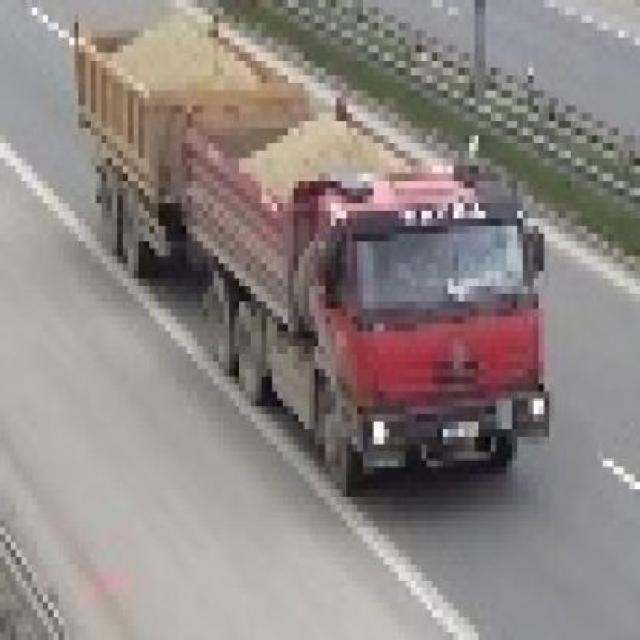truck: (81, 1, 550, 490)
